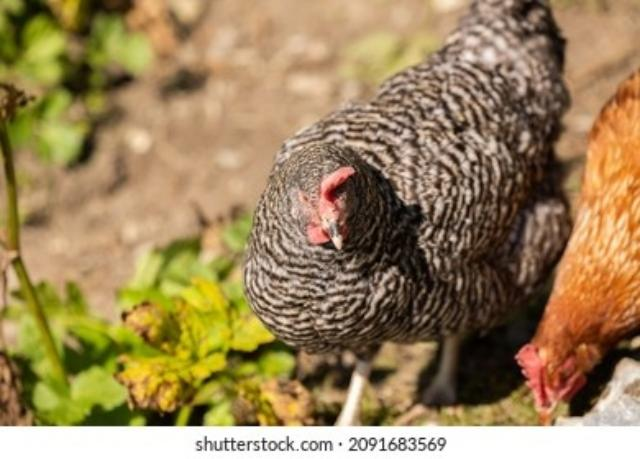Chicken: (243, 0, 568, 423), (512, 67, 640, 423)
